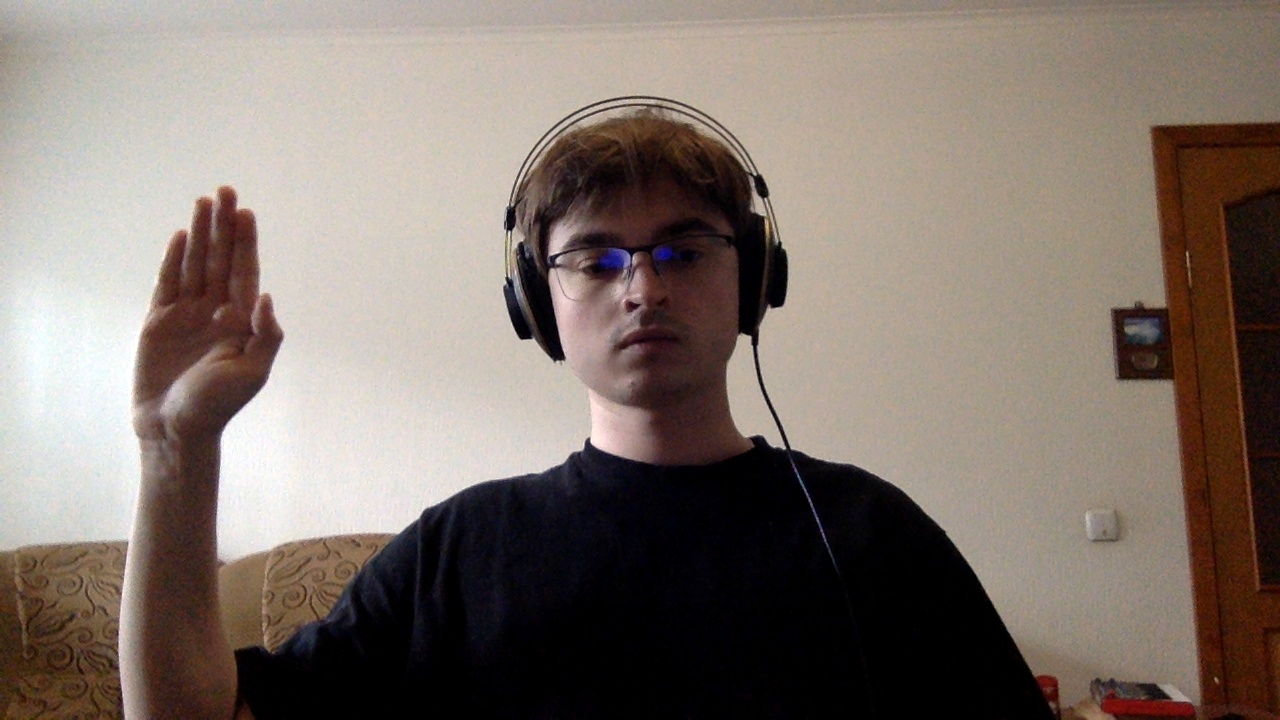hello: (99, 170, 299, 460)
